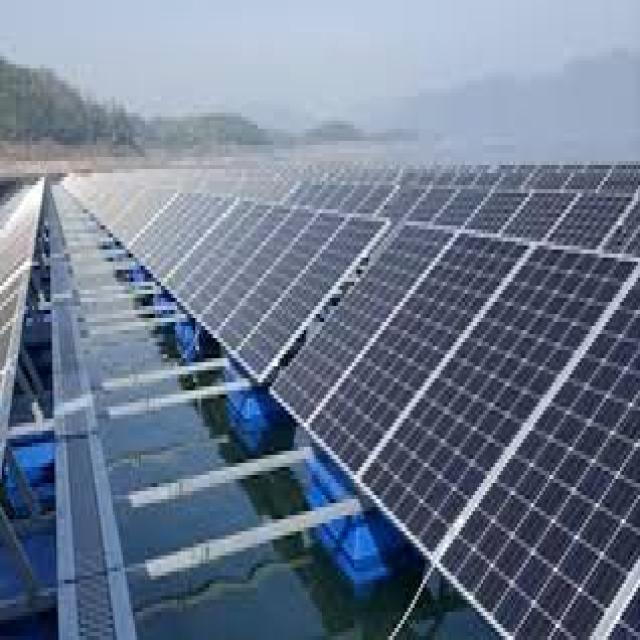clean-solar-panel: (59, 171, 640, 640)
